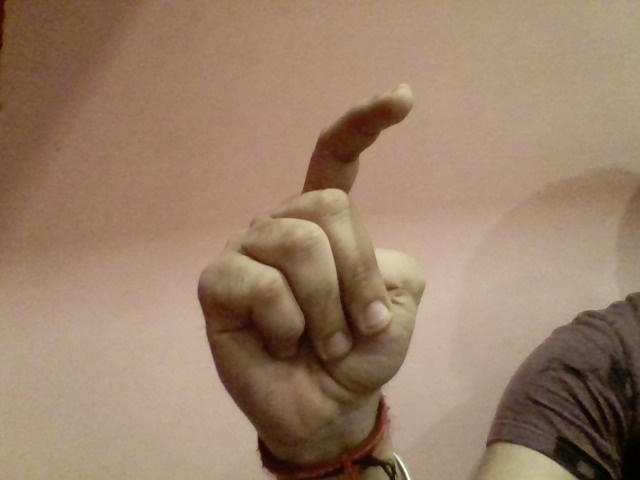x: (188, 76, 445, 426)
